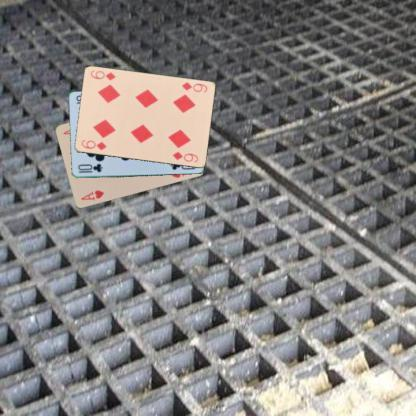10c: (75, 162, 104, 174)
6d: (78, 138, 108, 152), (179, 80, 209, 94)
Ah: (78, 188, 106, 202)
